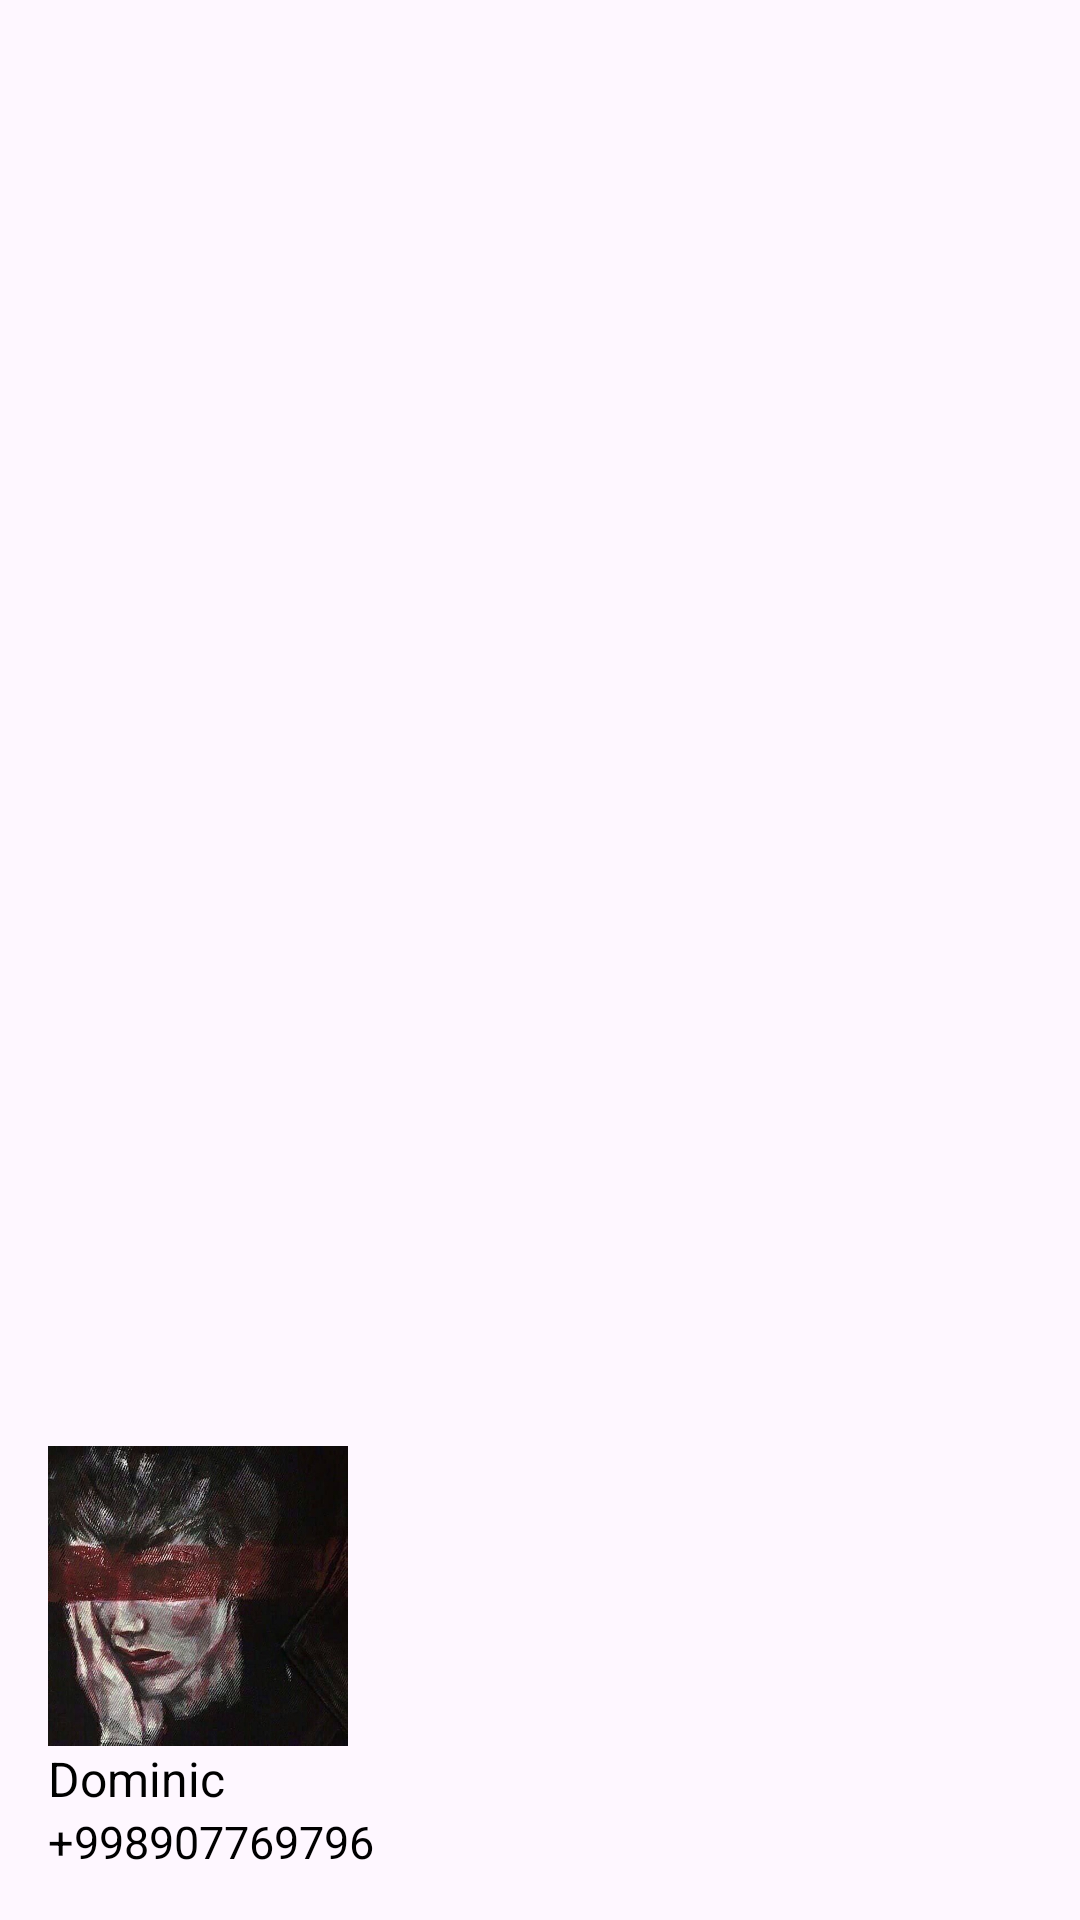

Point at icon controls on the screen. Image size 1080 x 1920, points as point (x, y).
user: point (198, 1596)
